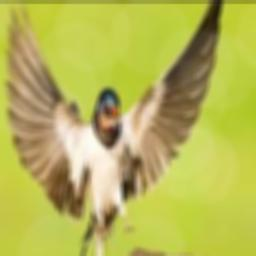Swallow: (6, 1, 224, 256)
